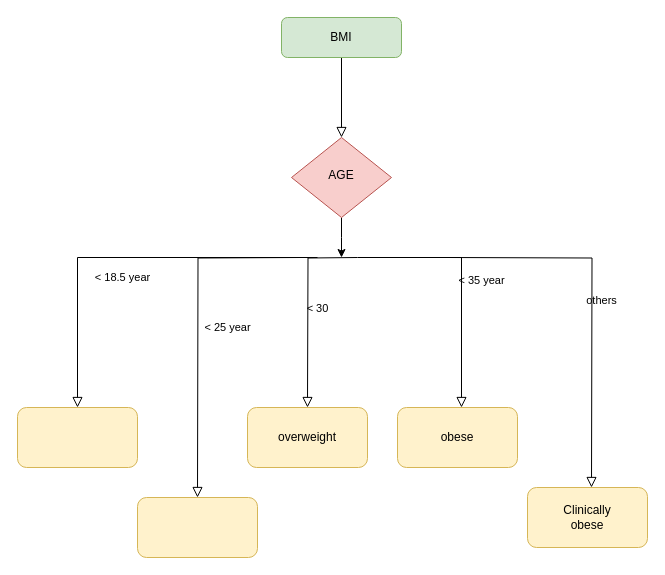
This 665x575 diagram has some shape labels left out. The shapes that lost their labels are listed below. From the top down, each one's centre as x and y in pixels, then its label:
pixel 77 437: Underweight
pixel 197 527: Normal weight
